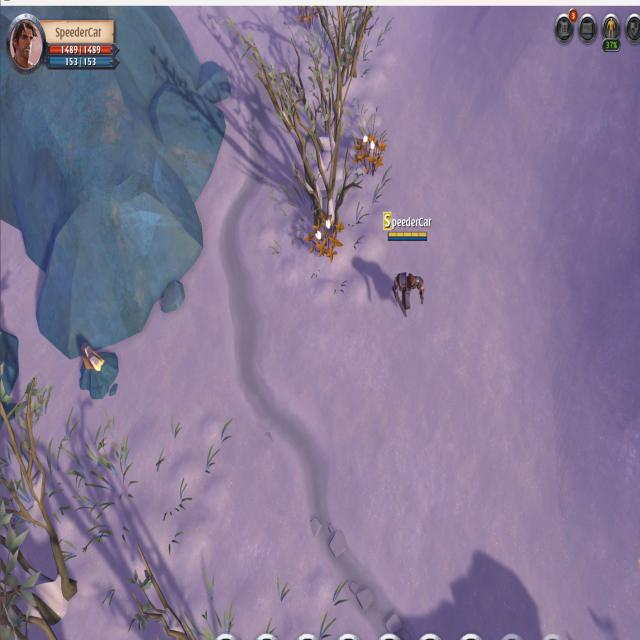copper: (74, 338, 120, 402)
cotton: (303, 209, 345, 267), (354, 134, 386, 176), (292, 1, 322, 30)
